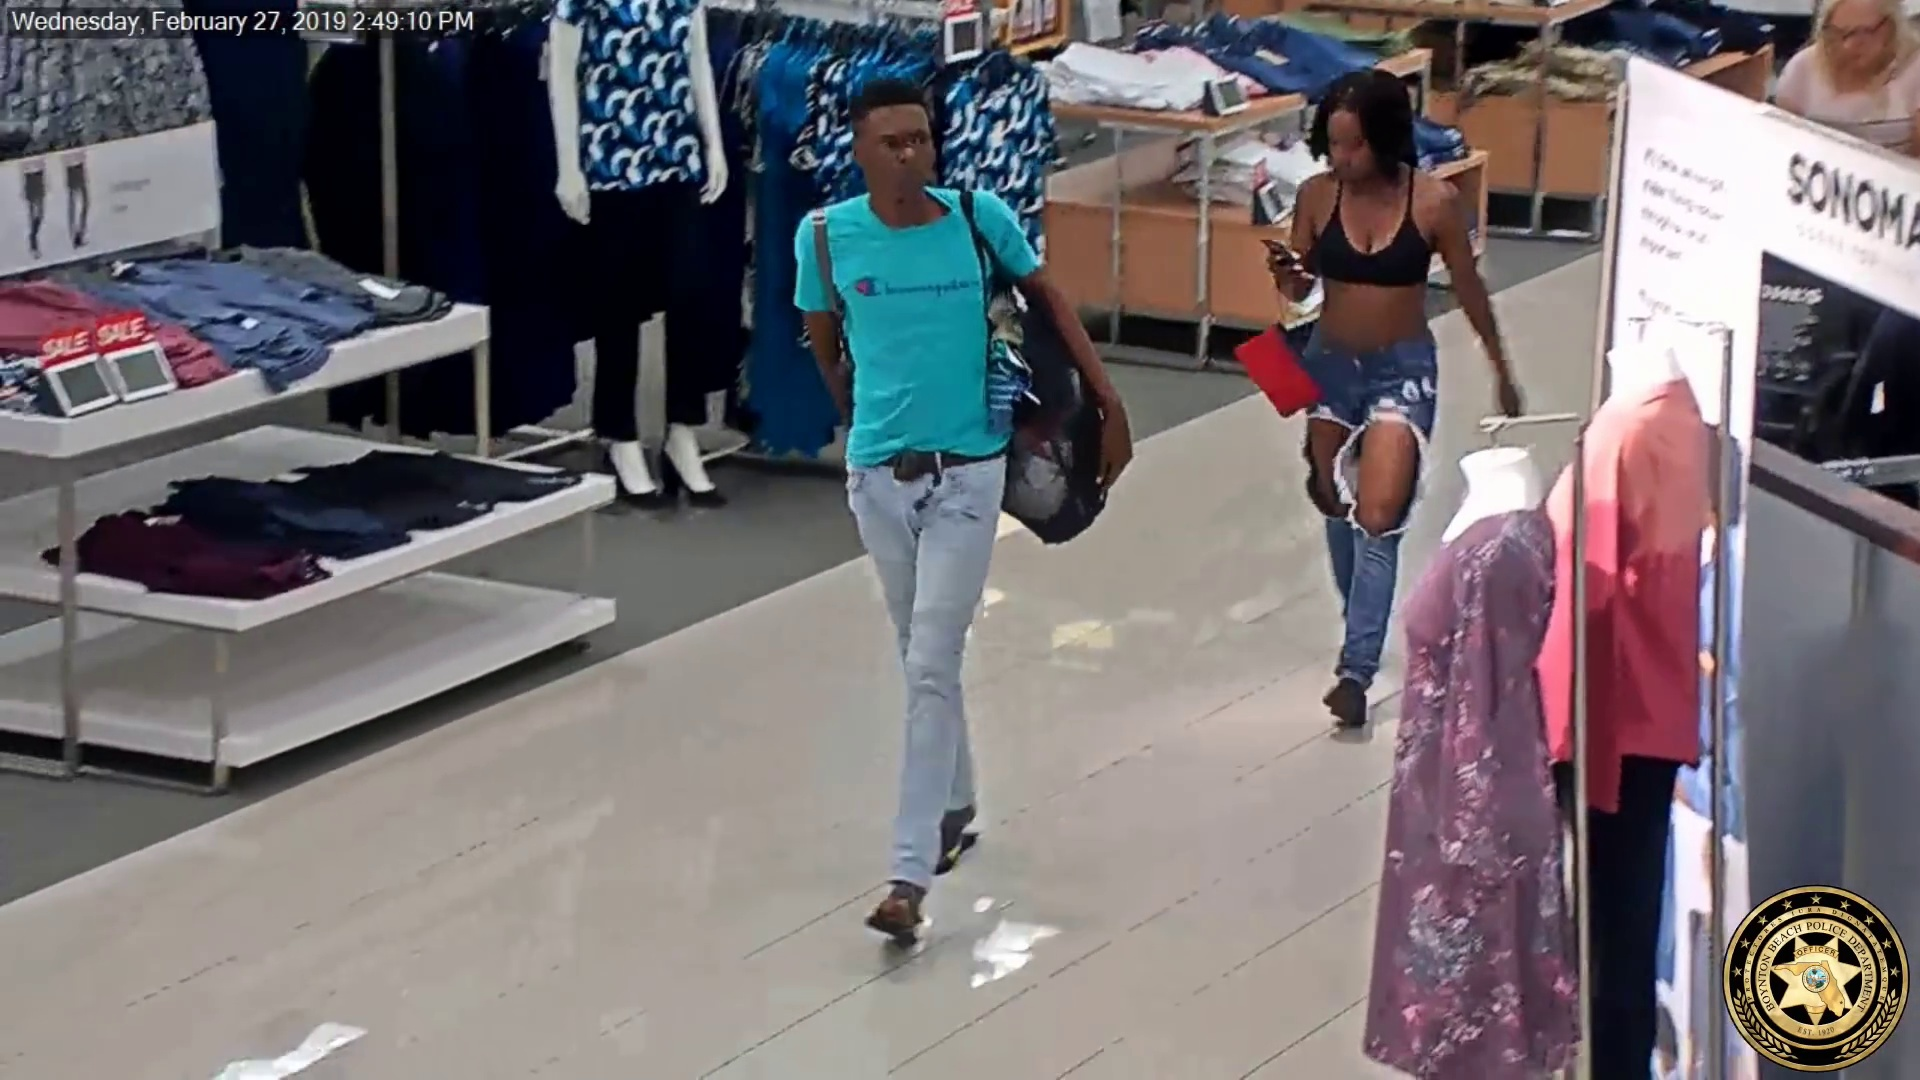face: (1323, 97, 1386, 191), (861, 122, 936, 197), (1826, 6, 1892, 81)
